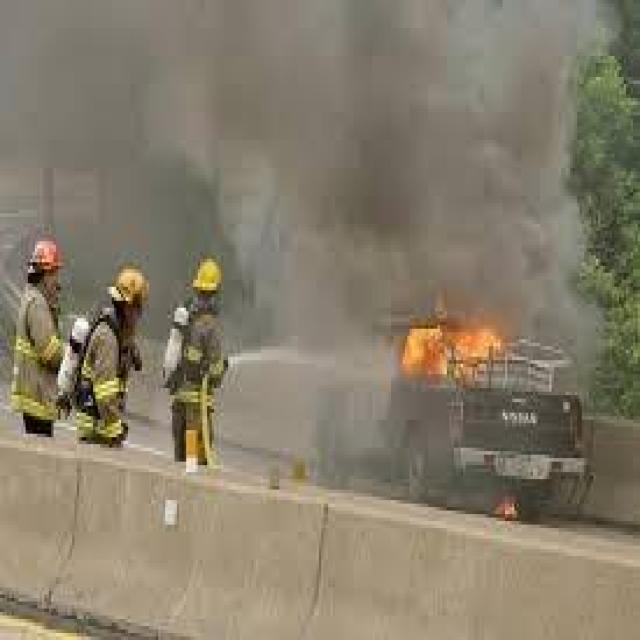fire: (393, 303, 509, 396)
other: (184, 251, 237, 290), (28, 218, 64, 274)
smoke: (167, 13, 589, 322)
